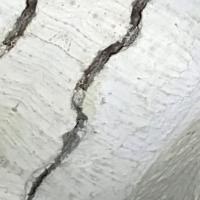crack: (0, 1, 150, 195)
